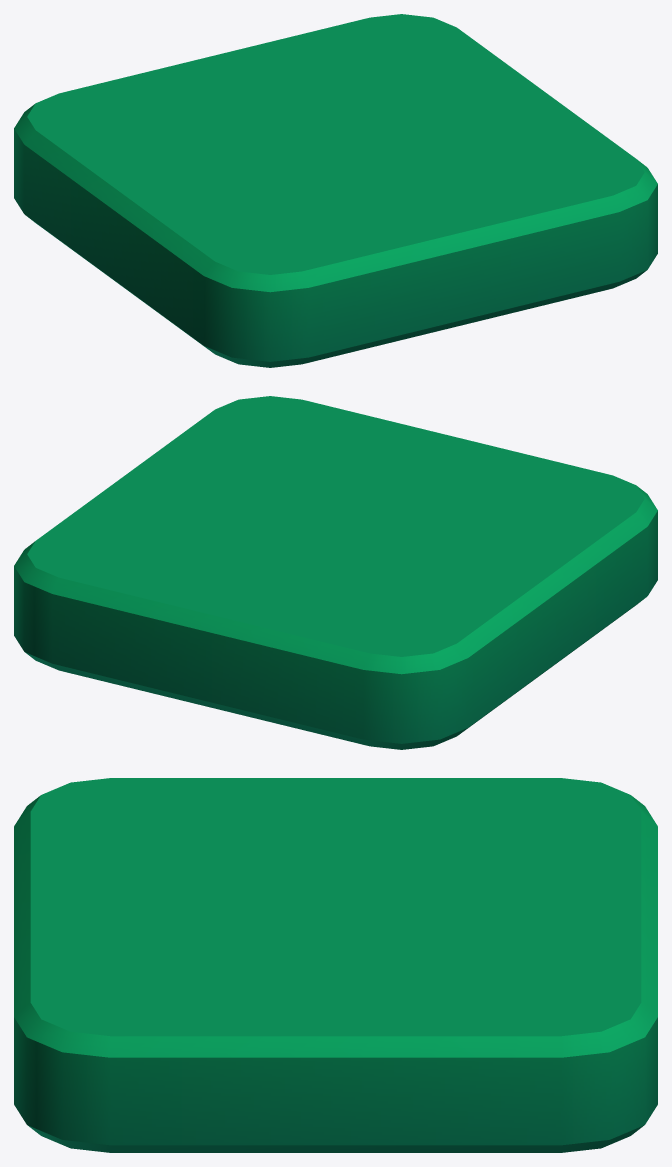
The model's file is tile_green.obj.
The picture shows the model from 3 angles, top to bottom: view 1: azimuth 30°, elevation 25°; view 2: azimuth 150°, elevation 25°; view 3: azimuth 270°, elevation 25°; orthographic projection. The views are drawn at different scales.
Parts seen in each view (by area): view 1: tile_green; view 2: tile_green; view 3: tile_green.
Boxes of the visible parts, x1,y1,x2,y2 form: tile_green: (14,14,657,367); tile_green: (14,396,657,749); tile_green: (14,778,657,1152).
Bounding box in the file's own units: 1 × 0.2 × 1.
1 material, 1 textured.
